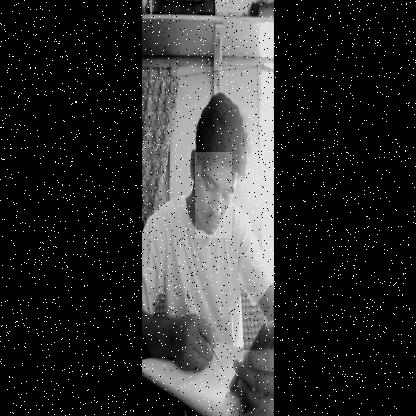Distracted: (195, 152, 232, 238)
